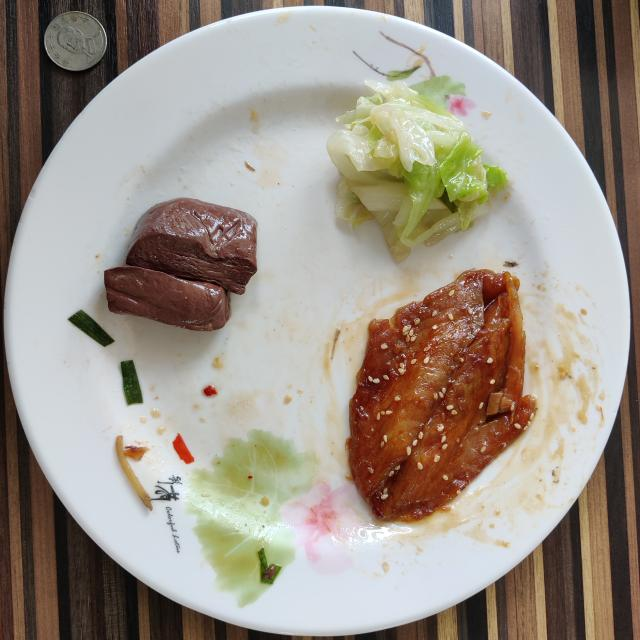Kabayaki sea bream fillet: (349, 269, 536, 521)
cabbage: (328, 81, 509, 261)
coin: (44, 11, 108, 71)
pig blood curd: (104, 198, 258, 331)
